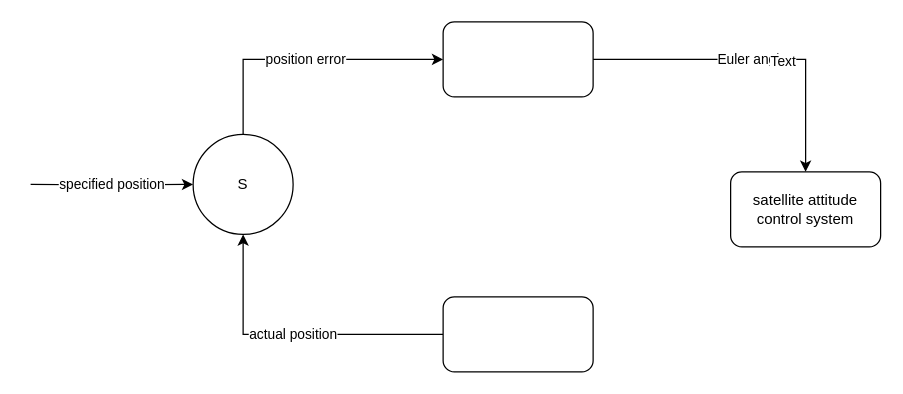
Some shapes in this 903 by 394 pixel diagram are drawn without their labels. The centre of each missing label's shape, as x and y in pixels:
cosmosFlight: [517,59]
formation position determination: [517,334]
